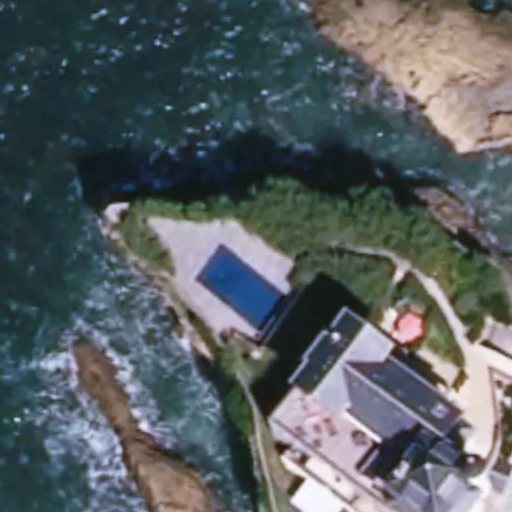pool: (203, 234, 308, 249)
